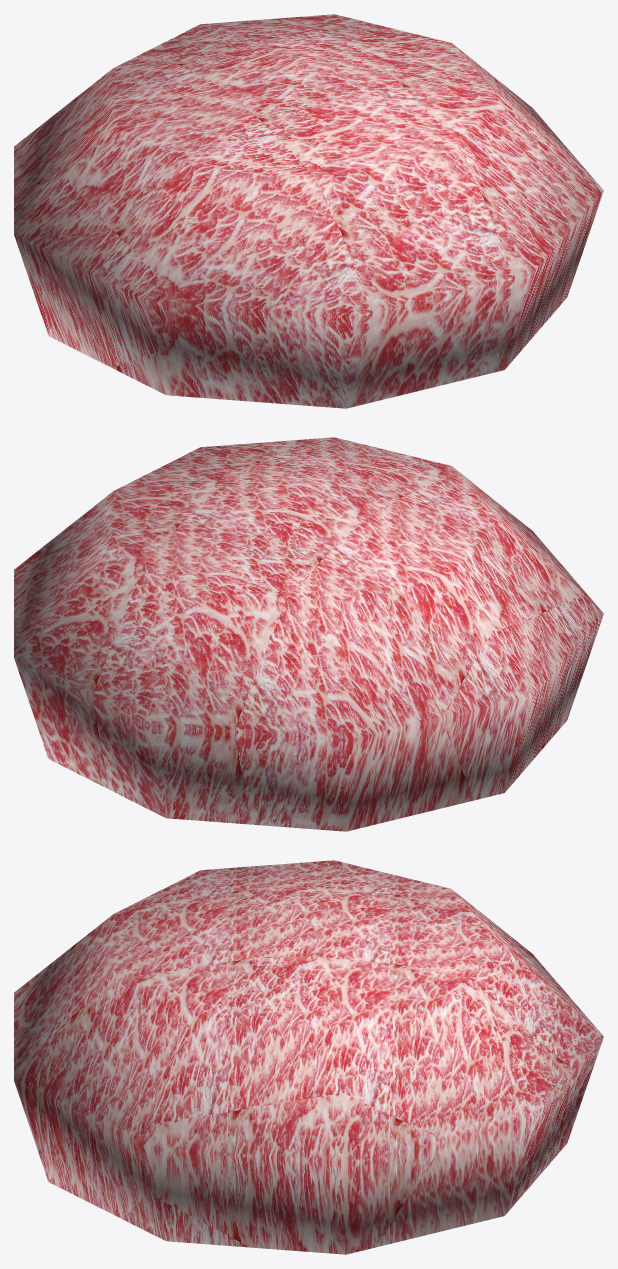
The model's file is SM_小肉沫.FBX.
3 views of the same model, one above another, from view 1: azimuth 30°, elevation 25°; view 2: azimuth 150°, elevation 25°; view 3: azimuth 270°, elevation 25° (orthographic).
Parts seen in each view (by area): view 1: SM_肉沫; view 2: SM_肉沫; view 3: SM_肉沫.
Boxes of the visible parts, bbox=[...] form: SM_肉沫: bbox=[14, 14, 603, 408]; SM_肉沫: bbox=[14, 437, 603, 831]; SM_肉沫: bbox=[14, 860, 603, 1254].
Size of the model in its own units: 5 by 4.92 by 2.19.
